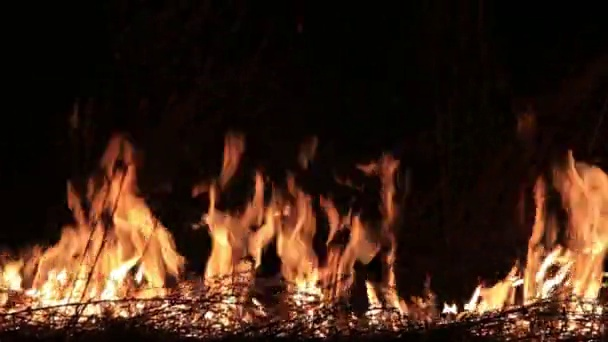fire: (202, 168, 399, 325), (5, 163, 180, 325), (470, 156, 607, 316)
